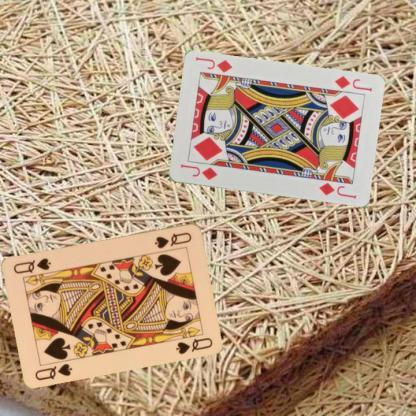Jd: (332, 73, 373, 93), (178, 162, 218, 181)
Qs: (32, 361, 74, 382), (152, 230, 193, 250)
